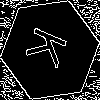K: (25, 25, 76, 73)
